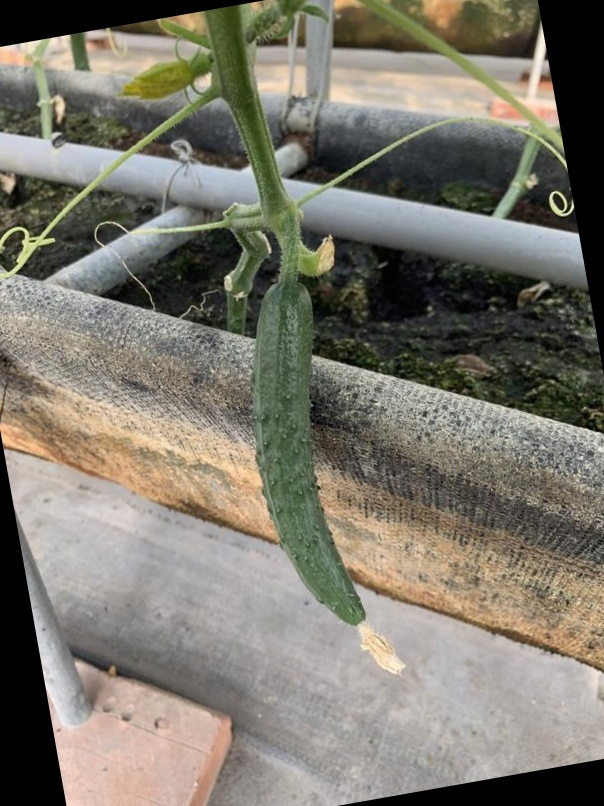growth: (234, 276, 376, 649)
mature: (236, 286, 377, 645)
